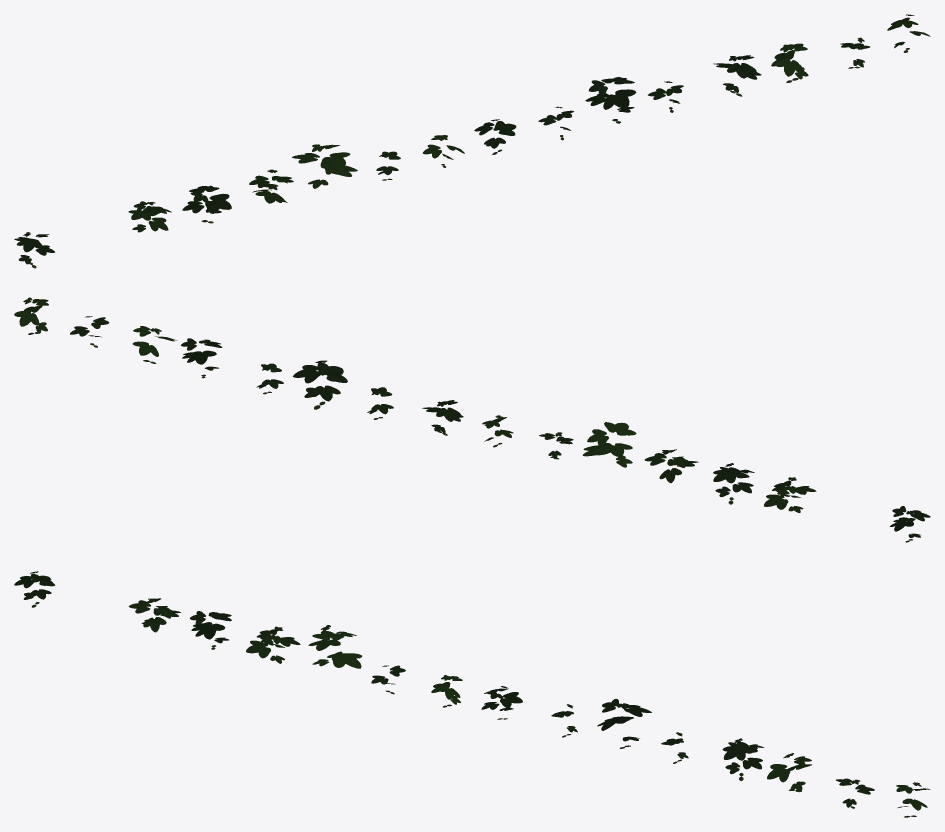
The model's file is ROW_18_SEG1_foliage.dae.
The picture shows the model from 3 angles, top to bottom: view 1: azimuth 30°, elevation 25°; view 2: azimuth 150°, elevation 25°; view 3: azimuth 330°, elevation 25°; orthographic projection.
Parts seen in each view (by area): view 1: ROW_18_SEG1_foliage; view 2: ROW_18_SEG1_foliage; view 3: ROW_18_SEG1_foliage.
Part boxes in pixels (x1,y1,x2,y2): ROW_18_SEG1_foliage: [14, 14, 930, 268]; ROW_18_SEG1_foliage: [14, 297, 930, 542]; ROW_18_SEG1_foliage: [14, 571, 930, 817].
Bounding box in the file's own units: 4.74 × 0.2864 × 0.2519.
